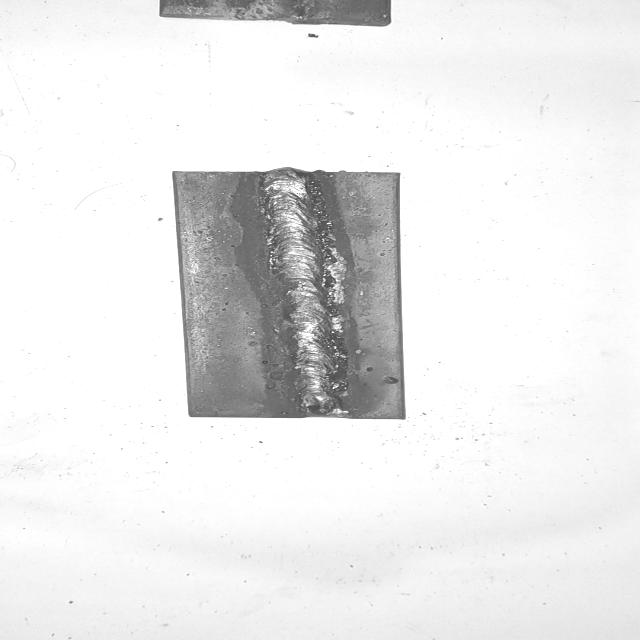Good Weld: (263, 176, 344, 415)
